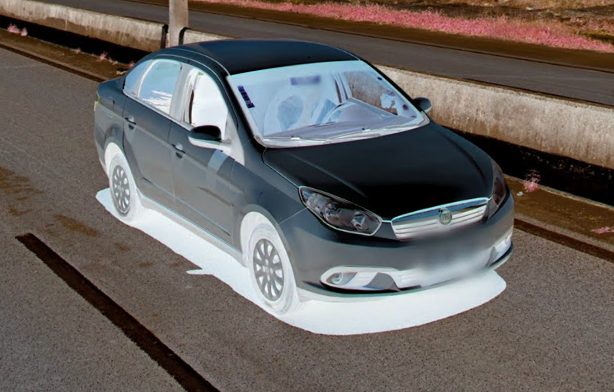car: (91, 34, 519, 317)
